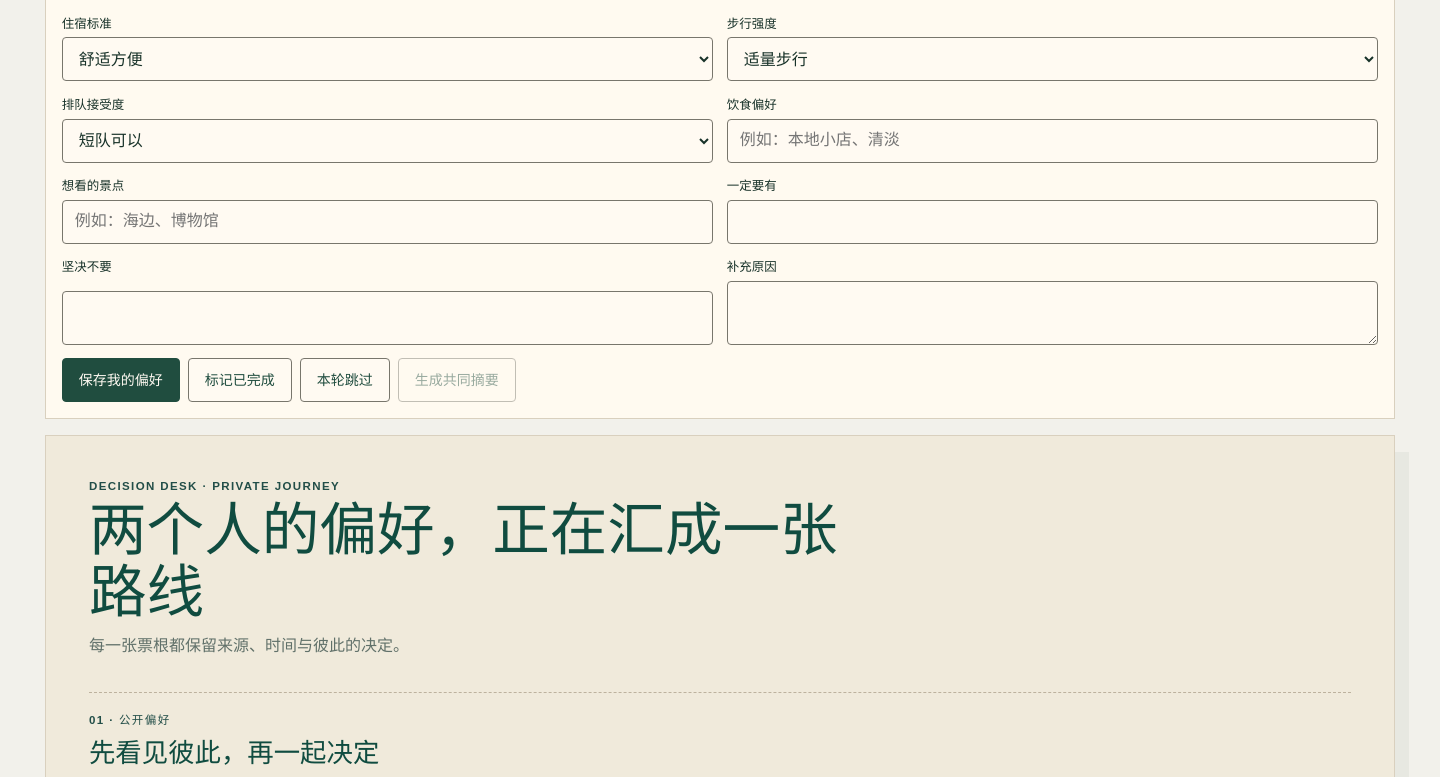
Scenario: reports a saved command with failed strict refresh and retries only the refresh
(page scrolled)
Click the button "保存我的偏好" at {"x": 121, "y": 380}, box [62, 358, 180, 402]
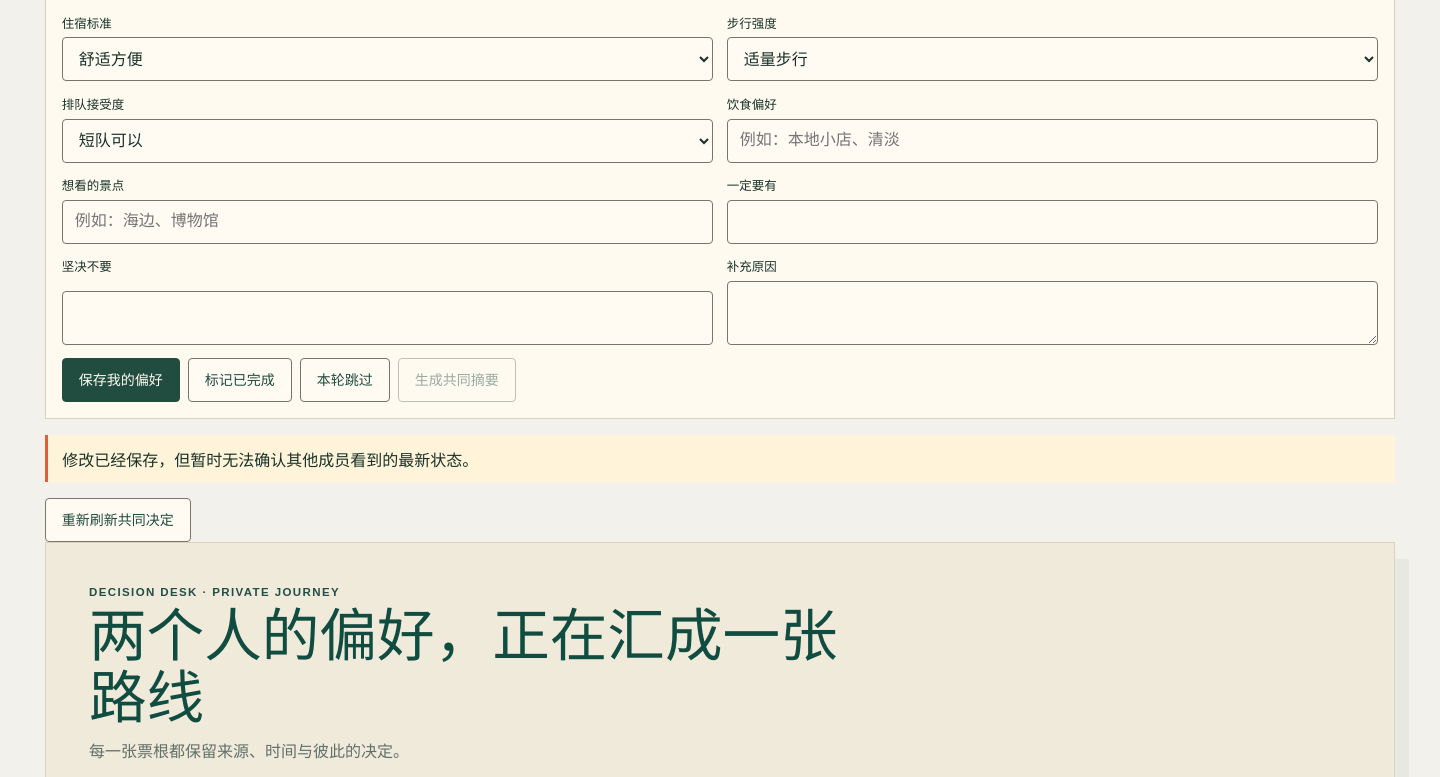
Expected: the message shows "修改已经保存，但暂时无法确认其他成员看到的最新状态", [62, 452, 478, 469]
Click the button "重新刷新共同决定" at {"x": 118, "y": 520}, box [45, 498, 191, 542]
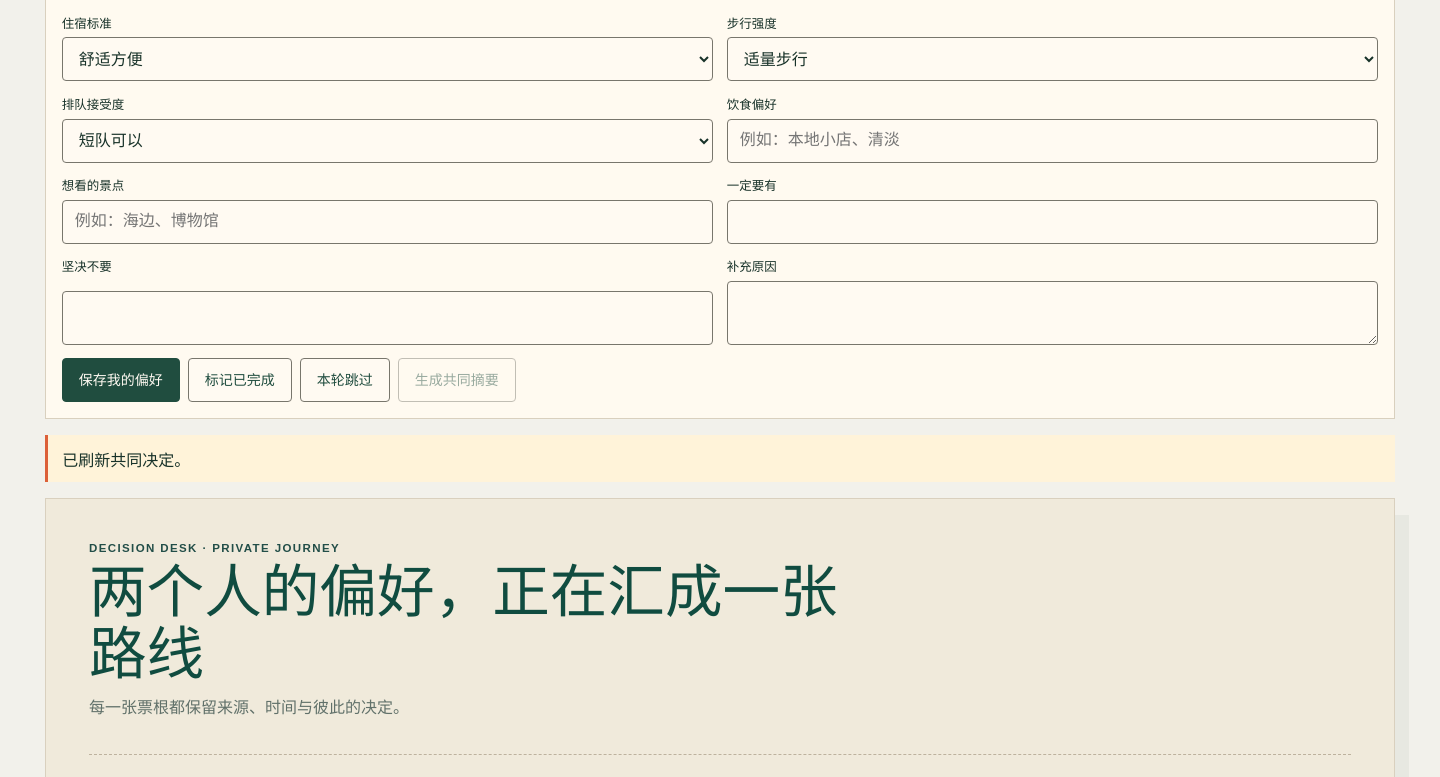
Expected: the message shows "已刷新共同决定", [62, 452, 190, 469]
